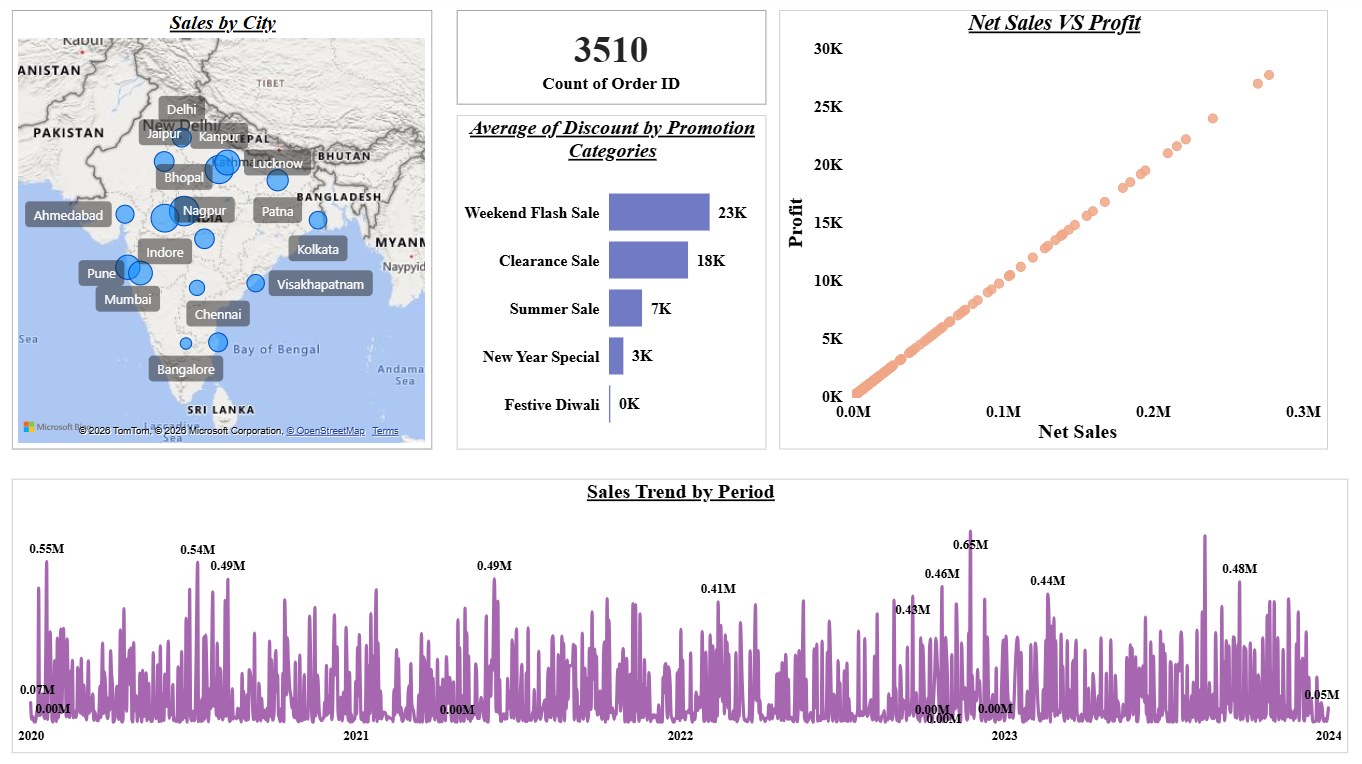

The page's visual inventory and layout, read from the dashboard file:
{"tool":"powerbi","page":{"name":"Overview","canvas":[1280,720],"ordinal":1},"visuals":[{"type":"lineChart","title":"Sales Trend by Preiod","fields":{"Y":["Sum(Fact Table.Net Sales)"],"Category":["Fact Table.Date (dd/mm/yyyy).Variation.Date Hierarchy.Year"]},"box":[17.8,450.1,1243.2,255.2],"z":0},{"type":"scatterChart","title":"Net Sales VS Profit","fields":{"X":["Fact Table.Net Sales"],"Y":["Fact Table.Profit"]},"box":[731.4,13.7,510.5,408.9],"z":1000},{"type":"barChart","title":"Average of Discount by Promotion Categories","fields":{"Y":["Avg(Fact Table.Discount)"],"Category":["Dim Promotion.Promotion Name"]},"box":[430.9,111.1,288.2,311.5],"z":2000},{"type":"map","title":"Sales by City","fields":{"Category":["Dim Customers.City"],"Size":["Sum(Fact Table.Net Sales)"]},"box":[17.8,13.7,391.1,408.9],"z":3000},{"type":"card","fields":{"Values":["Count(Fact Table.Order ID)"]},"box":[430.9,13.7,288.2,87.8],"z":4000}]}

Visuals, with their boxes in screenshot pixels (x1, y1, x2, y2), scaled from the page's 1280x720 canvas onto the 1362x764 screenshot:
"Sales Trend by Preiod" lineChart: crop(19, 478, 1342, 748)
"Net Sales VS Profit" scatterChart: crop(778, 15, 1321, 448)
"Average of Discount by Promotion Categories" barChart: crop(459, 118, 765, 448)
"Sales by City" map: crop(19, 15, 435, 448)
card - Count(Fact Table.Order ID): crop(459, 15, 765, 108)
